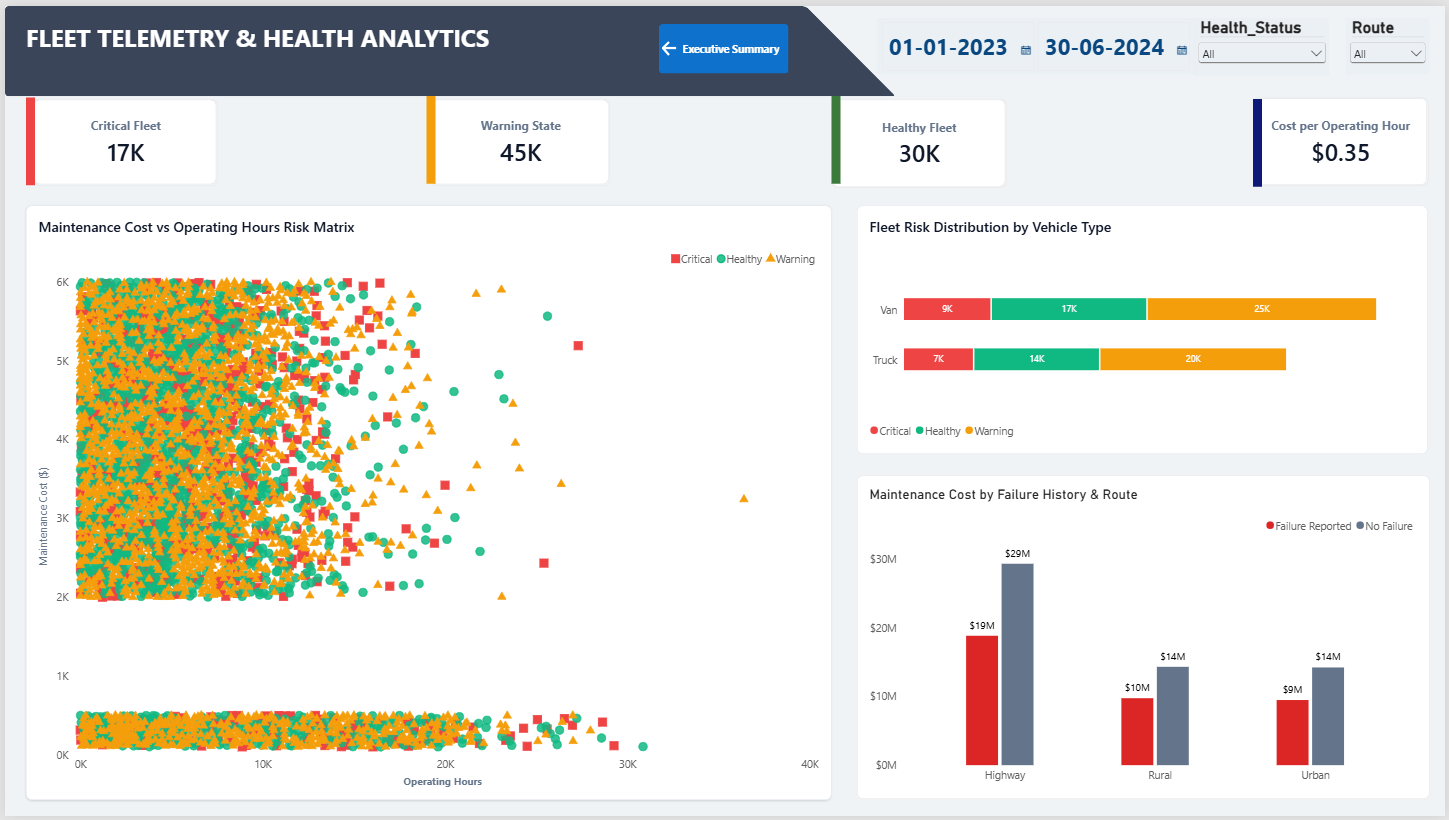

This screenshot's page, from the dashboard's own definition file:
{"tool":"powerbi","page":{"name":"Telemetry & Health","canvas":[1920,1080],"ordinal":1},"visuals":[{"type":"shape","box":[0,0,1187.9,120.4],"z":0},{"type":"textbox","box":[27.3,20.4,661,50],"z":1000},{"type":"slicer","fields":{"Values":["Fact_Fleet_Operations.last_maintenance_date"]},"box":[1161.1,16.7,425,75],"z":2000},{"type":"slicer","fields":{"Values":["Fact_Fleet_Operations.route_info"]},"box":[1787.5,15,111.1,75],"z":3000},{"type":"slicer","fields":{"Values":["Dim_Telemetry.Health_Status"]},"box":[1585,15,180,77.5],"z":4000},{"type":"cardVisual","fields":{"Data":["'_Measures'.Critical_Units"]},"box":[38.6,124.9,245.3,115.8],"z":5000},{"type":"cardVisual","fields":{"Data":["'_Measures'.Warning_Units"]},"box":[567.8,124.9,238.5,115.8],"z":6000},{"type":"cardVisual","fields":{"Data":["'_Measures'.Cost per Operating Hour"]},"box":[1664.9,122.7,233.9,118.1],"z":7000},{"type":"shape","box":[27.3,122.7,12,117],"z":8000},{"type":"shape","box":[561,120.4,12,117],"z":9000},{"type":"shape","box":[1664.9,124.9,12,117],"z":10000},{"type":"cardVisual","fields":{"Data":["'_Measures'.Healthy Fleet"]},"box":[1101.6,124.9,233.9,118.1],"z":11000},{"type":"shape","box":[1101.6,120.4,12,117],"z":12000},{"type":"scatterChart","title":"Maintenance Cost vs Operating Hours Risk Matrix","fields":{"Category":["Fact_Fleet_Operations.vehicle_id"],"X":["Sum(Fact_Fleet_Operations.usage_hours)"],"Y":["Sum(Fact_Fleet_Operations.maintenance_cost)"],"Series":["Dim_Telemetry.Health_Status"]},"box":[27.3,265.7,1074.3,792.7],"z":13000},{"type":"barChart","title":"Fleet Risk Distribution by Vehicle Type","fields":{"Category":["Dim_Vehicle.vehicle_type"],"Y":["CountNonNull(Fact_Fleet_Operations.vehicle_id)"],"Series":["Dim_Telemetry.Health_Status"]},"box":[1135.7,265.7,760.9,331.6],"z":14000},{"type":"clusteredColumnChart","title":"Maintenance Cost by Failure History & Route","fields":{"Category":["Fact_Fleet_Operations.route_info"],"Y":["'_Measures'.Total Maintenance Cost"],"Series":["Dim_Telemetry.Failure_Event"]},"box":[1135.7,626.9,763.2,431.5],"z":15000},{"type":"actionButton","box":[872.2,25,172.6,65.9],"z":16000}]}

Visuals, with their boxes in screenshot pixels (x1, y1, x2, y2), scaled from the page's 1920x1080 canvas onto the 1449x820 screenshot:
shape: bbox=[0, 0, 896, 91]
textbox: bbox=[21, 15, 519, 53]
slicer - Fact_Fleet_Operations.last_maintenance_date: bbox=[876, 13, 1197, 70]
slicer - Fact_Fleet_Operations.route_info: bbox=[1349, 11, 1433, 68]
slicer - Dim_Telemetry.Health_Status: bbox=[1196, 11, 1332, 70]
cardVisual - '_Measures'.Critical_Units: bbox=[29, 95, 214, 183]
cardVisual - '_Measures'.Warning_Units: bbox=[429, 95, 609, 183]
cardVisual - '_Measures'.Cost per Operating Hour: bbox=[1256, 93, 1433, 183]
shape: bbox=[21, 93, 30, 182]
shape: bbox=[423, 91, 432, 180]
shape: bbox=[1256, 95, 1266, 184]
cardVisual - '_Measures'.Healthy Fleet: bbox=[831, 95, 1008, 184]
shape: bbox=[831, 91, 840, 180]
"Maintenance Cost vs Operating Hours Risk Matrix" scatterChart: bbox=[21, 202, 831, 804]
"Fleet Risk Distribution by Vehicle Type" barChart: bbox=[857, 202, 1431, 454]
"Maintenance Cost by Failure History & Route" clusteredColumnChart: bbox=[857, 476, 1433, 804]
actionButton: bbox=[658, 19, 788, 69]
